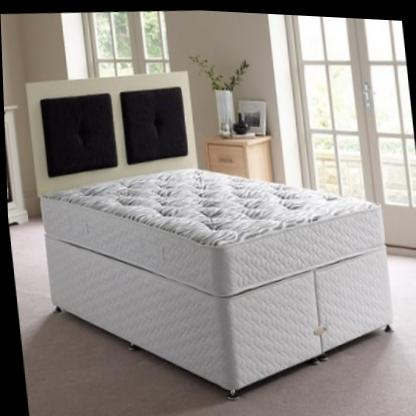Bed: (23, 52, 402, 416)
